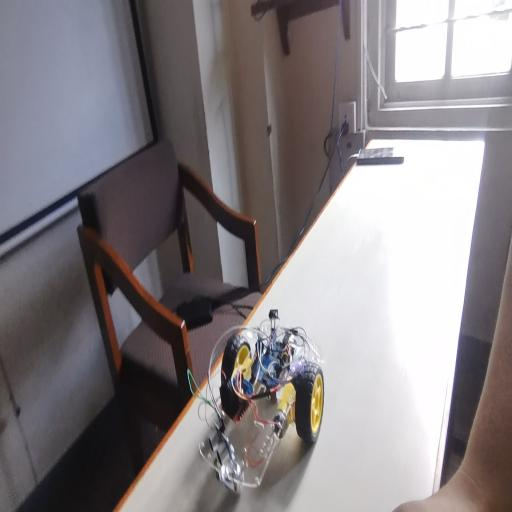car: (212, 296, 320, 503)
